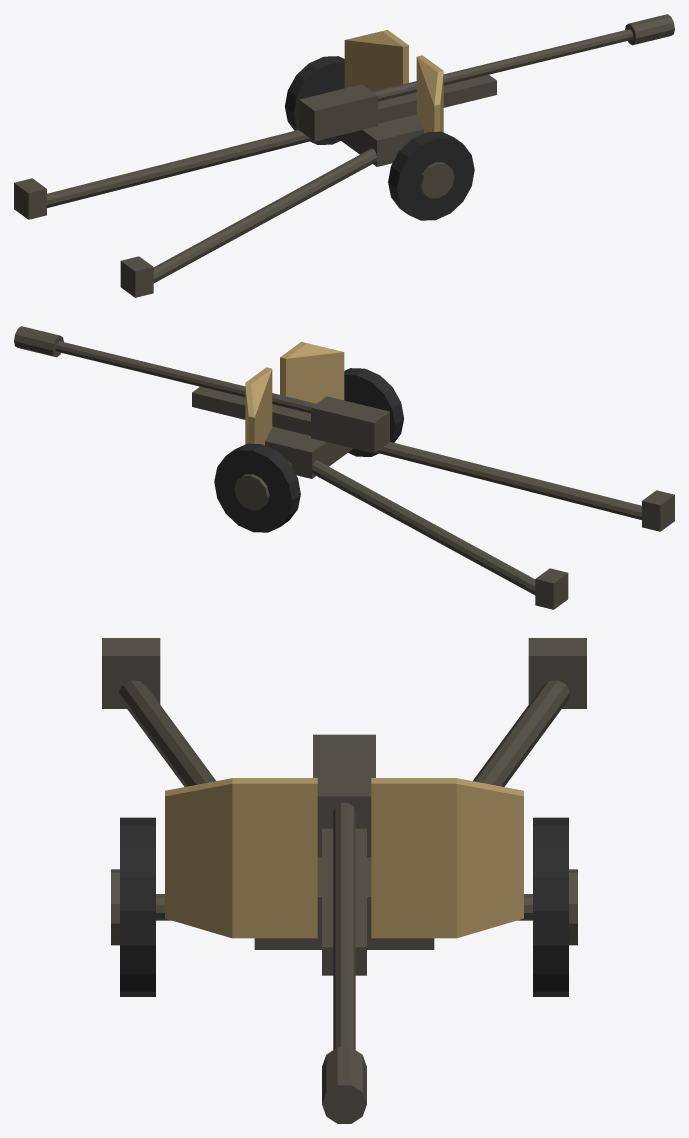
The model's file is de_pak_40.obj.
3 views of the same model, one above another, from view 1: azimuth 30°, elevation 25°; view 2: azimuth 150°, elevation 25°; view 3: azimuth 270°, elevation 25° (orthographic). The views are drawn at different scales.
Bounding box in the file's own units: 6.12 × 1.18 × 2.16.
